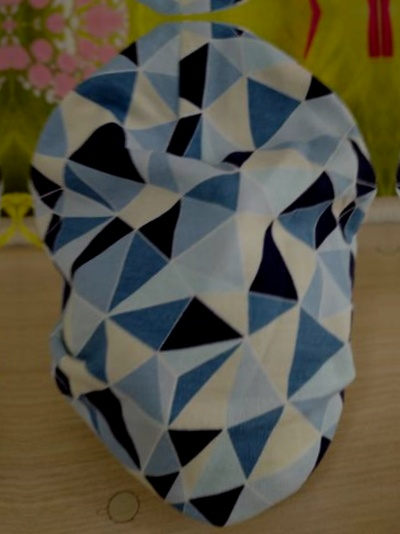Hat: (32, 18, 389, 518), (11, 0, 369, 15), (390, 4, 400, 503), (0, 34, 6, 533), (370, 0, 400, 1)
